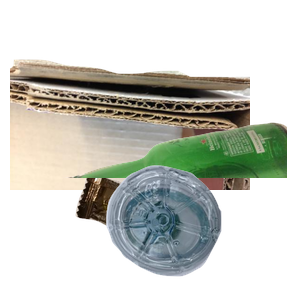cardboard: (10, 57, 250, 237)
glass: (60, 120, 300, 300)
plastic: (104, 163, 300, 300)
trash: (73, 171, 242, 300)
